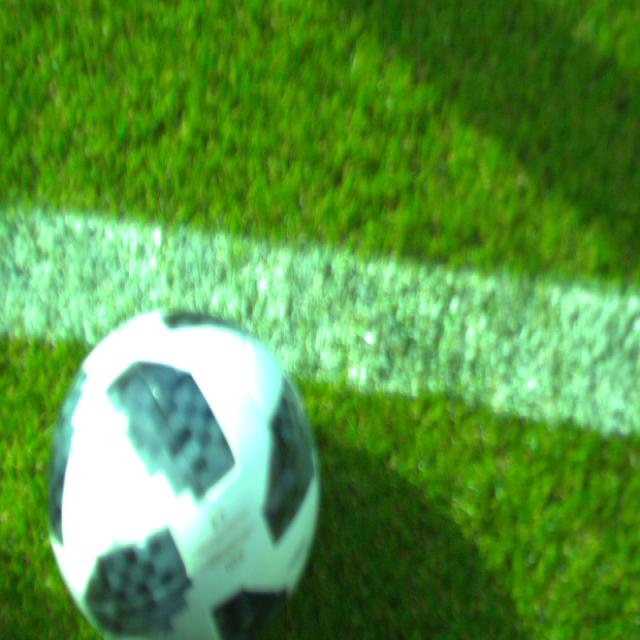ball: (45, 310, 320, 640)
